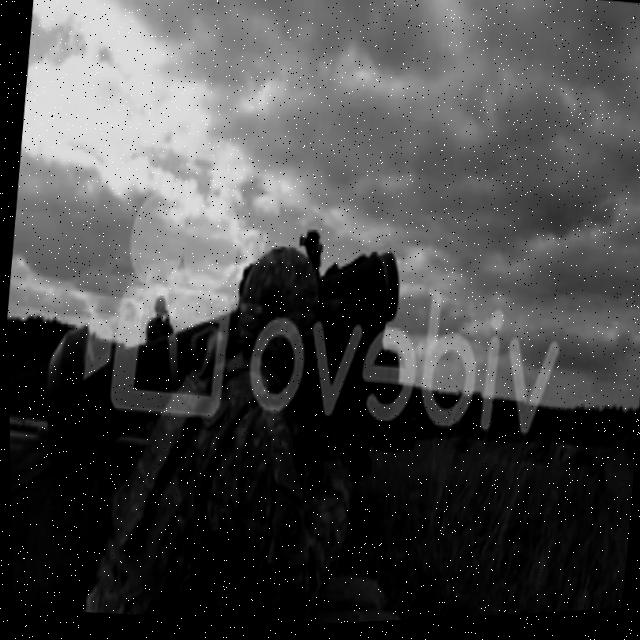rocket: (26, 282, 235, 511)
